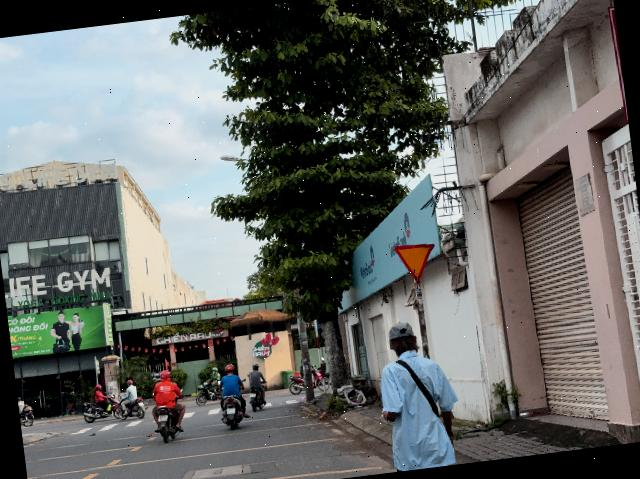giao-nhau-voi-duong-uu-tien: (392, 241, 440, 285)
